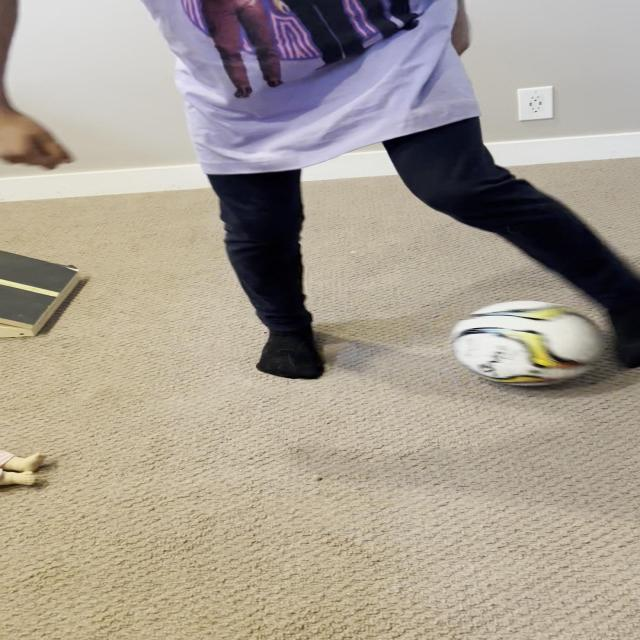Soccer Ball: (450, 301, 607, 386)
